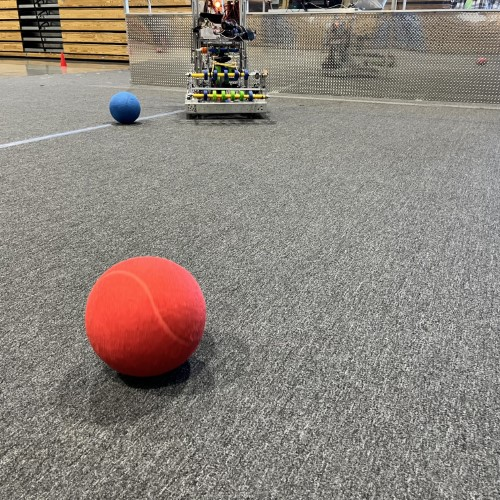blue: (107, 90, 143, 126)
red: (82, 254, 209, 378)
